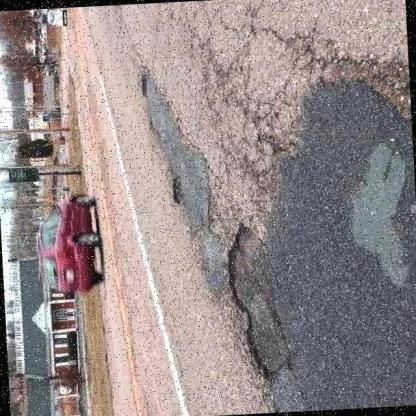pothole: (339, 137, 416, 290), (222, 220, 292, 382), (168, 172, 186, 204)
